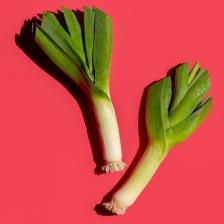green: (104, 63, 212, 214), (32, 6, 127, 173)
